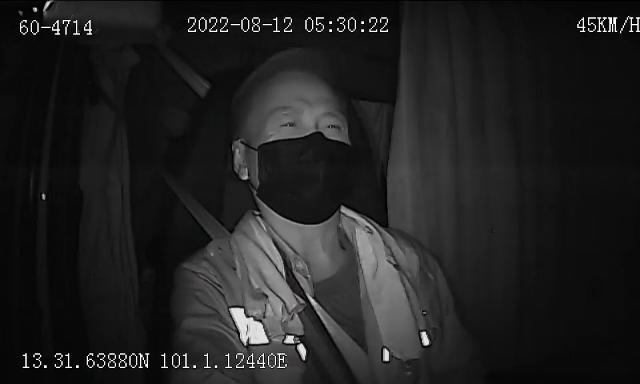SafeDriving: (316, 113, 348, 134), (272, 112, 304, 131)
Seatbelt: (161, 154, 339, 384)
